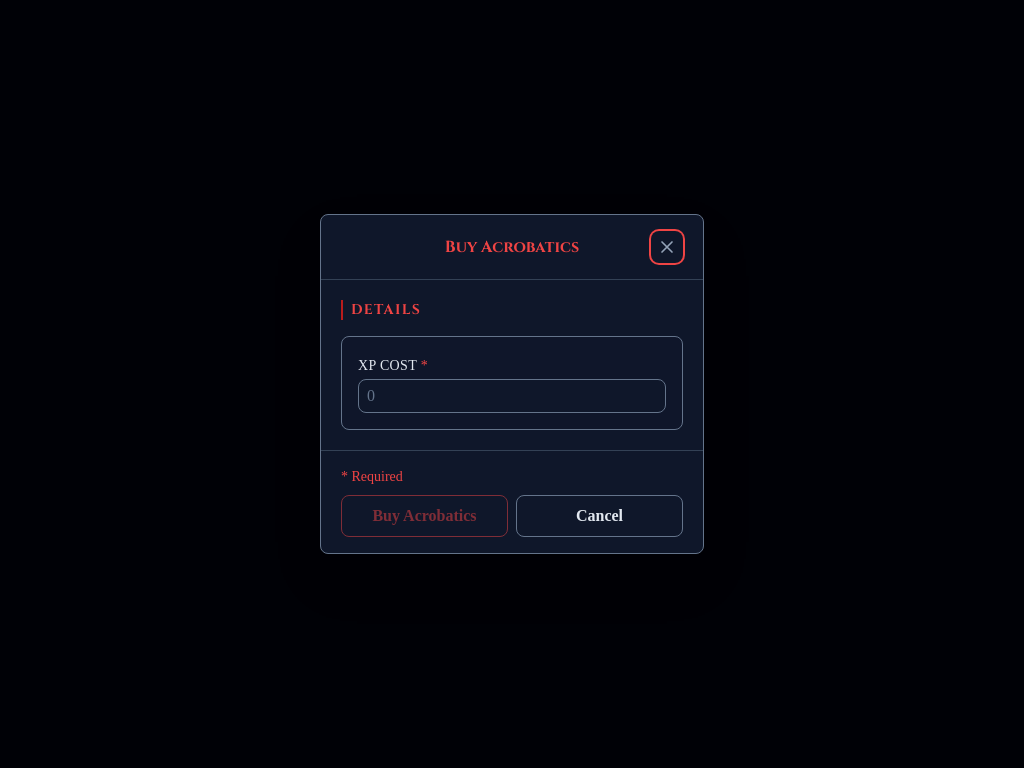
XpCostForm › keeps the submit button off until a cost is typed
This screenshot has width=1024, height=768.
expect the button "Buy Acrobatics" is disabled: met, box [341, 495, 508, 537]
Type "150" into the field with placeholder "0" at (512, 396), box [358, 379, 666, 413]
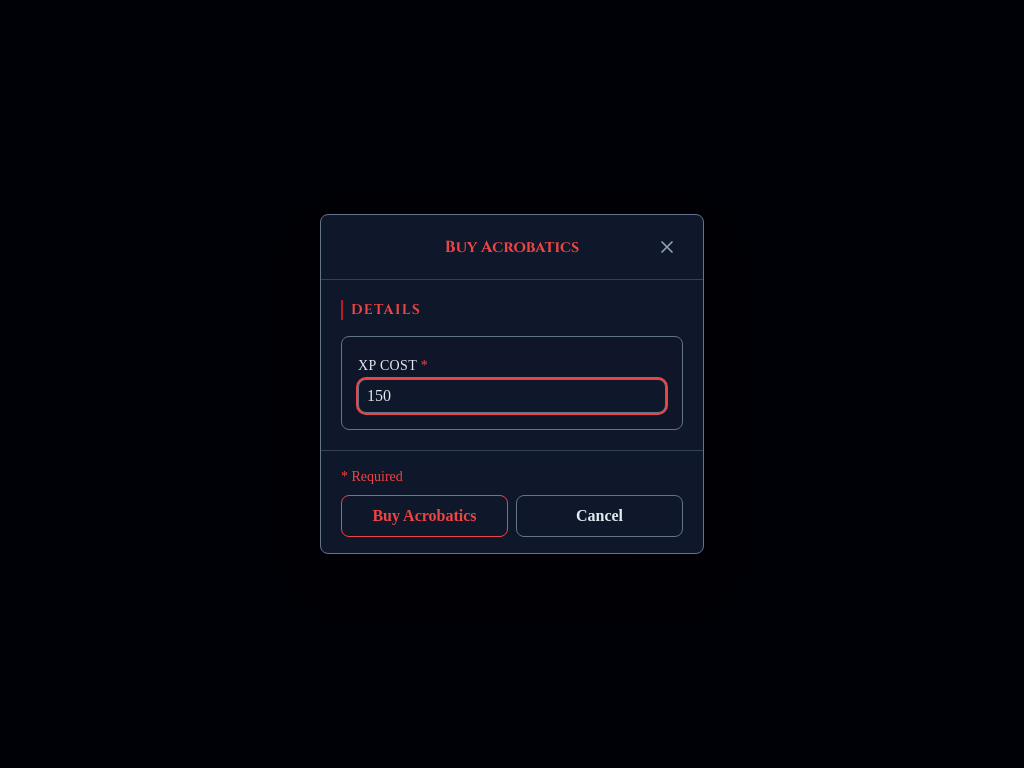
expect the button "Buy Acrobatics" is enabled: met, box [341, 495, 508, 537]
